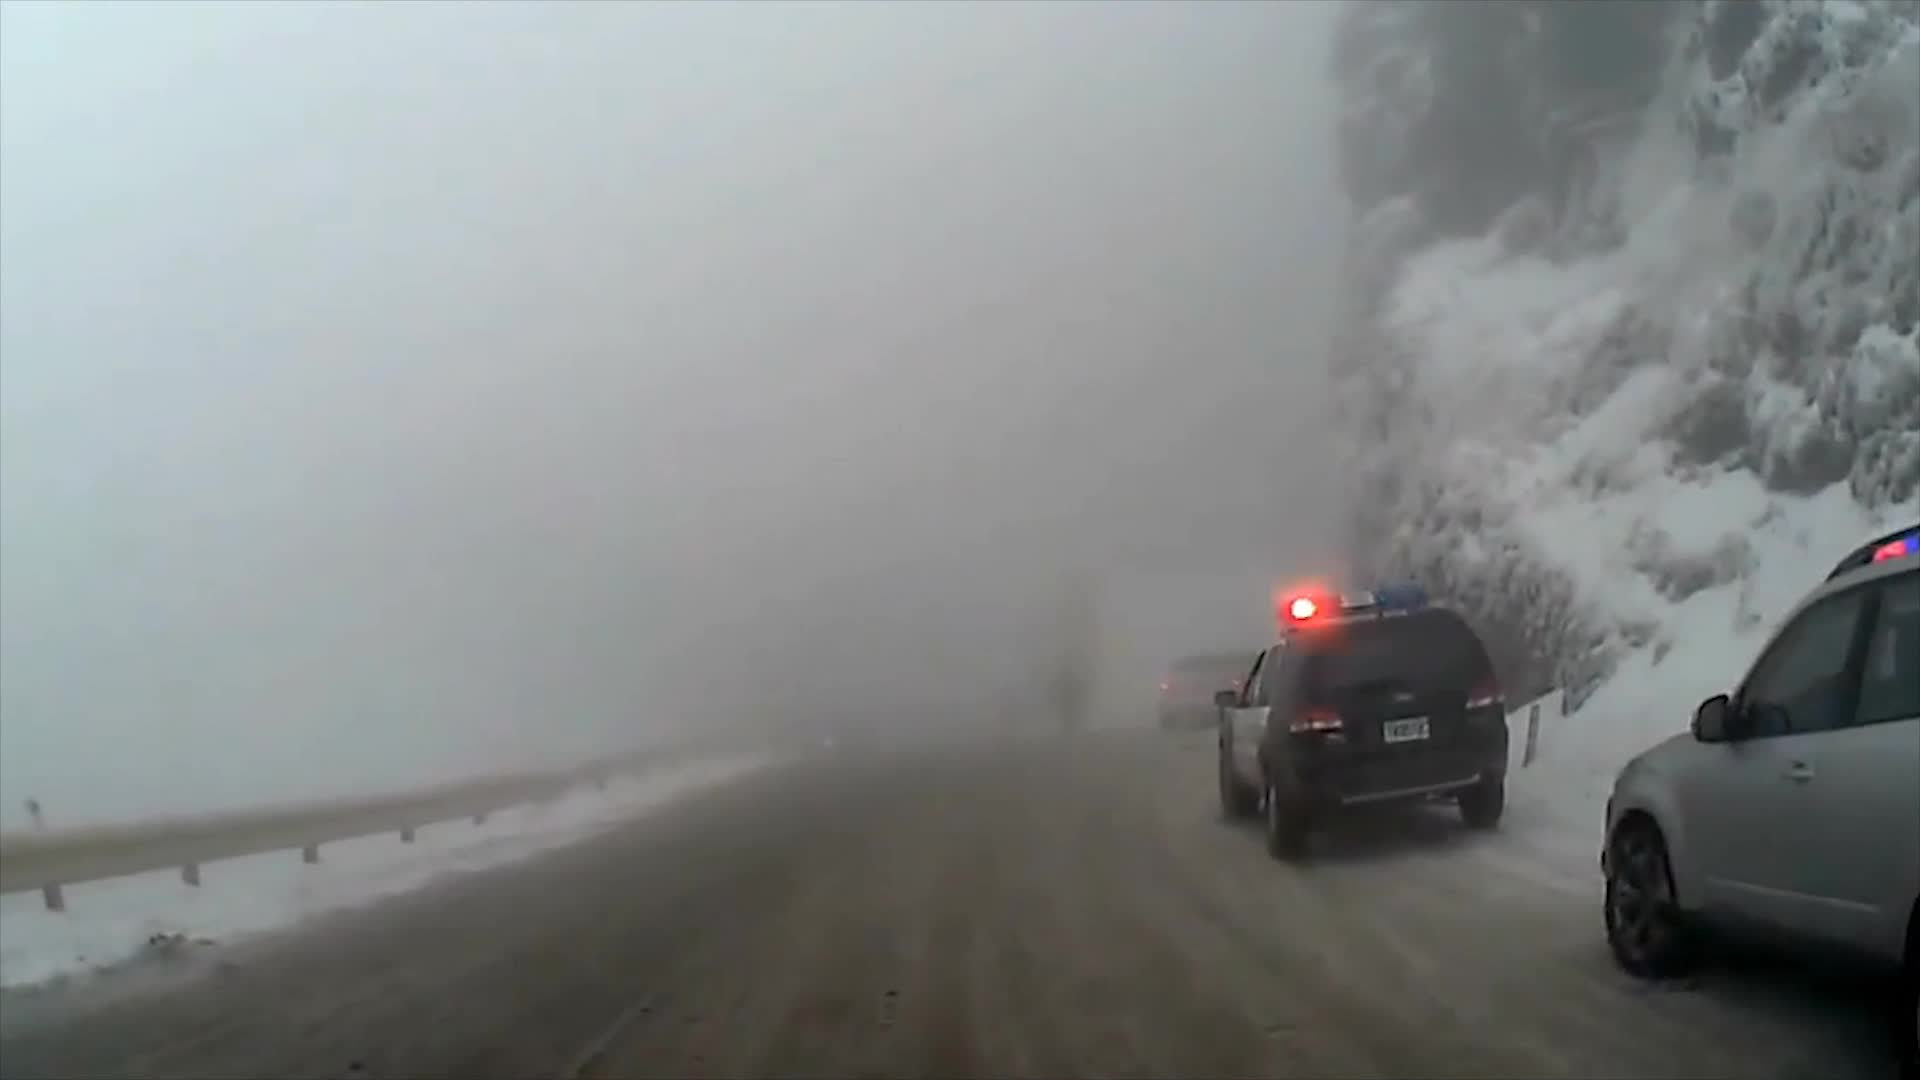vehicle: (1594, 516, 1920, 1076), (1208, 582, 1509, 858)
